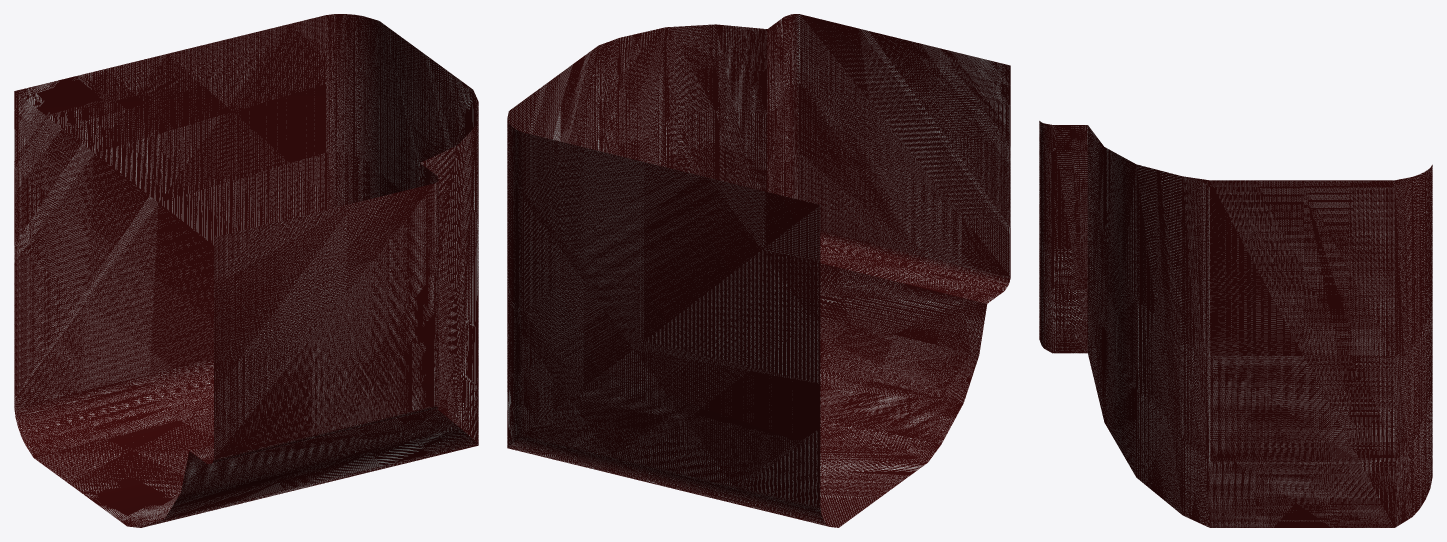
File: original-42.obj
3 renders of one model, left to right at view 1: azimuth 30°, elevation 25°; view 2: azimuth 150°, elevation 25°; view 3: azimuth 270°, elevation 25°, orthographic. The views are drawn at different scales.
Visible parts, largest first — view 1: DF_41_BR1/DF_41_BR/mesh25/mesh25-geometry#mesh25-geometry; view 2: DF_41_BR1/DF_41_BR/mesh25/mesh25-geometry#mesh25-geometry; view 3: DF_41_BR1/DF_41_BR/mesh25/mesh25-geometry#mesh25-geometry.
Boxes of the visible parts, x1,y1,x2,y2 form: DF_41_BR1/DF_41_BR/mesh25/mesh25-geometry#mesh25-geometry: [14, 14, 478, 527]; DF_41_BR1/DF_41_BR/mesh25/mesh25-geometry#mesh25-geometry: [507, 14, 1010, 527]; DF_41_BR1/DF_41_BR/mesh25/mesh25-geometry#mesh25-geometry: [1039, 121, 1432, 527].
Size of the model in its own units: 0.0352 by 0.0343 by 0.0352.
